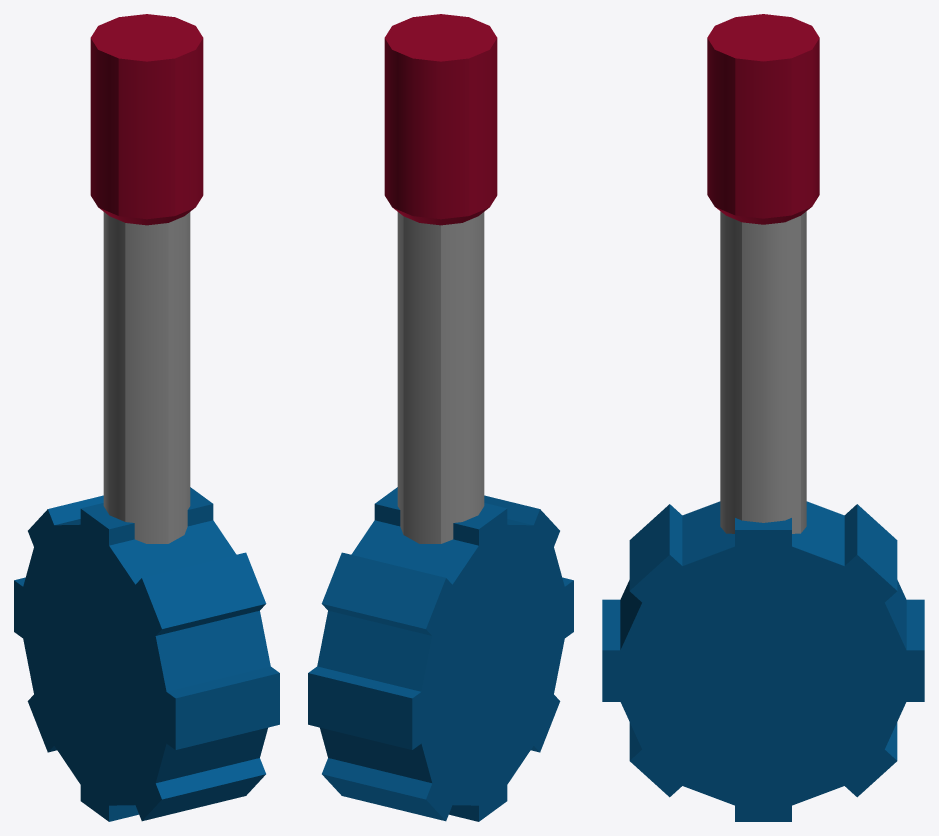
The model's file is kanon-controller-lever.fbx.
3 views of the same model, side by side, from view 1: azimuth 30°, elevation 25°; view 2: azimuth 150°, elevation 25°; view 3: azimuth 270°, elevation 25° (orthographic).
Parts seen in each view (by area): view 1: Cannon-Lever; view 2: Cannon-Lever; view 3: Cannon-Lever.
Boxes of the visible parts, x1,y1,x2,y2 form: Cannon-Lever: (14,14,279,821); Cannon-Lever: (308,14,573,821); Cannon-Lever: (602,14,924,821).
Bounding box in the file's own units: 4.18 × 29.12 × 11.2.
